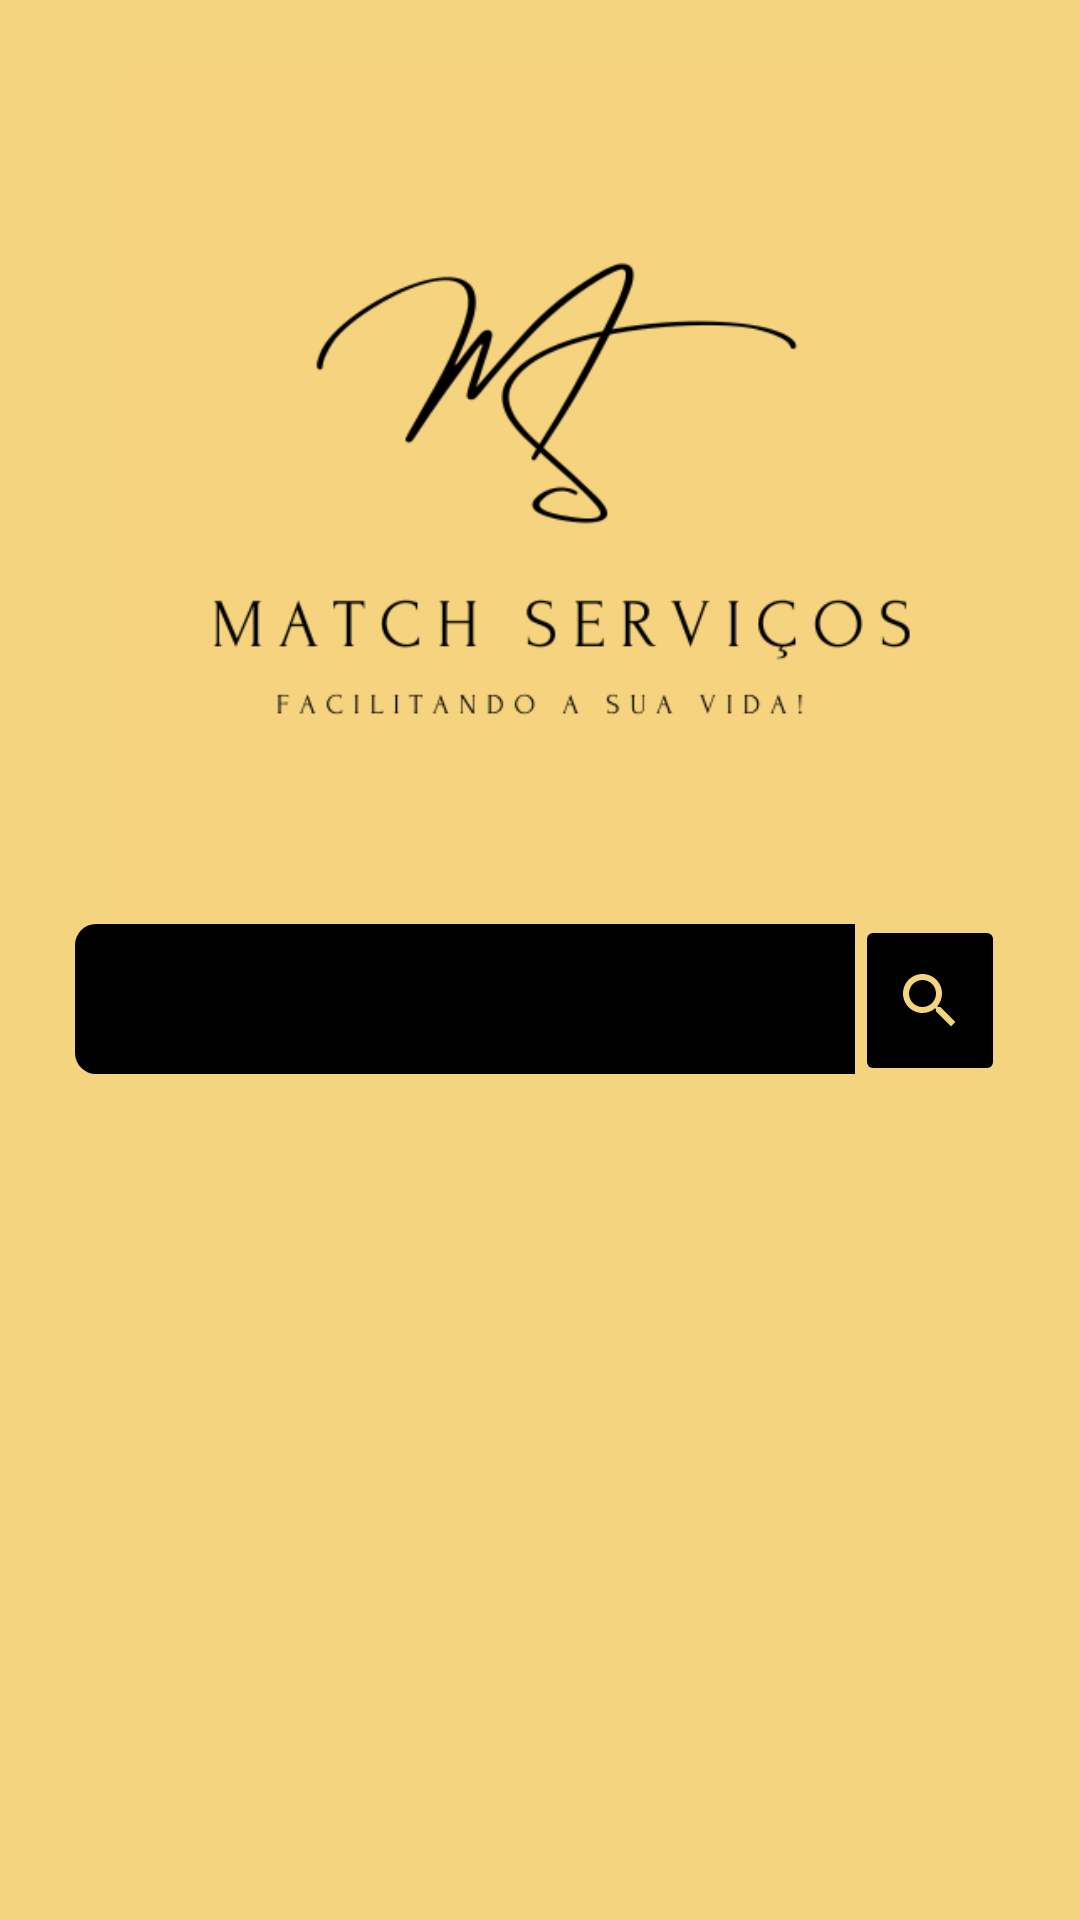

Named icons in this screenshot (1080×1920) and their bounding boxes, bbox(x1, y1, x2, y2):
search: bbox(867, 933, 993, 1068)
